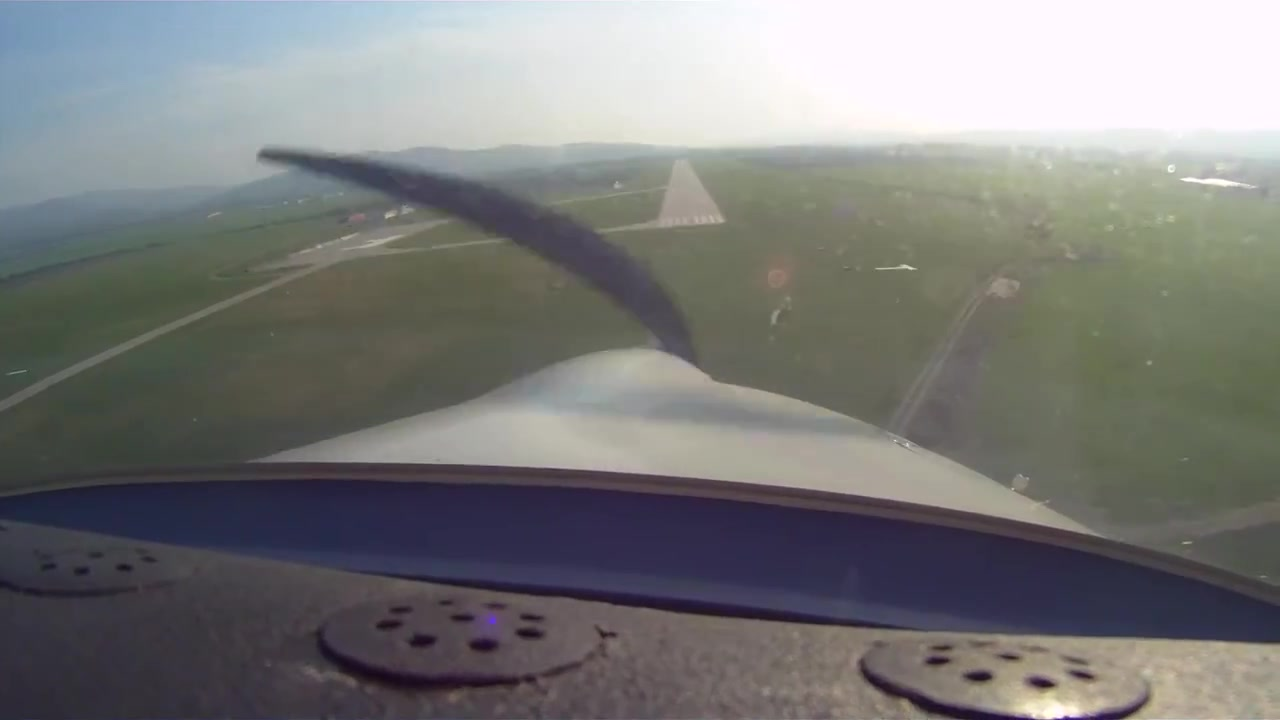entrance: (656, 215, 721, 227)
runway: (653, 156, 723, 231)
